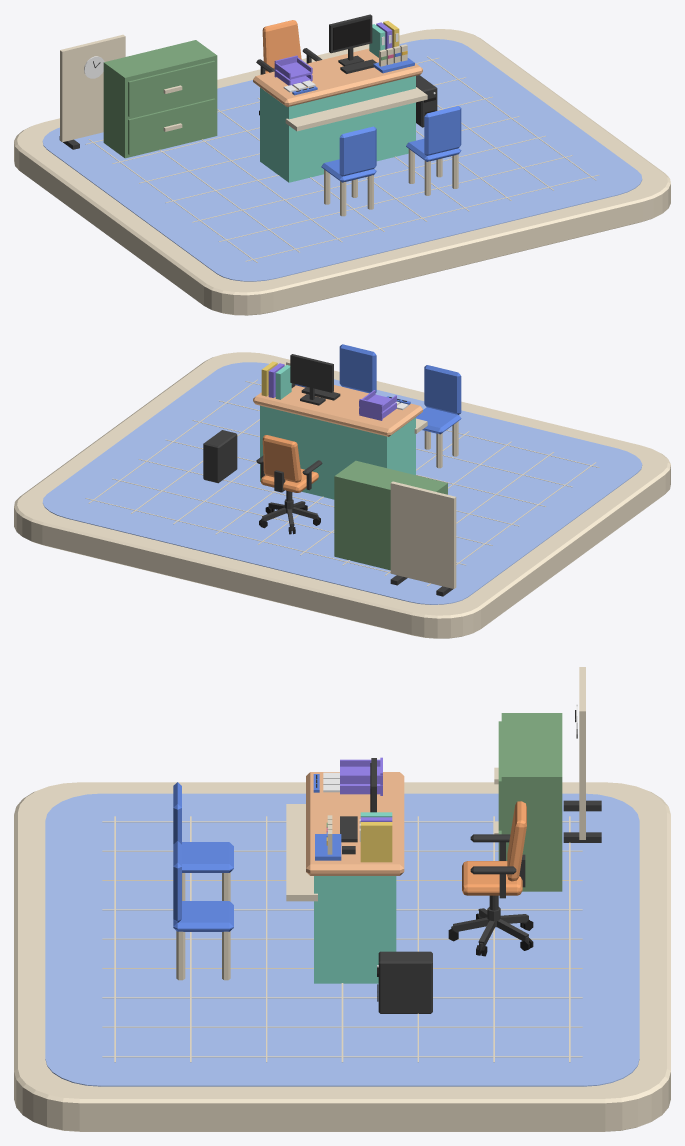
3 renders of one model, top to bottom at view 1: azimuth 30°, elevation 25°; view 2: azimuth 150°, elevation 25°; view 3: azimuth 270°, elevation 25°, orthographic. The views are drawn at different scales.
Parts seen in each view (by area): view 1: COM-02 Floor Surface, COM-01 Rounded Base Direct, Cabinet, Counter body, Panel, Countertop, Visitor shelf, COM-04_Chair_blender_direct, Backrest, Backrest.001, Frame, Tower (+4 smaller); view 2: COM-02 Floor Surface, COM-01 Rounded Base Direct, Counter body, Cabinet, Panel, Countertop, COM-04_Chair_blender_direct, Backrest, Backrest.001, Tower, Frame, Seat (+1 smaller); view 3: COM-02 Floor Surface, COM-01 Rounded Base Direct, Cabinet, Counter body, Countertop, COM-04_Chair_blender_direct, Tower, Visitor shelf, Seat.001, Seat, File.002, Panel (+5 smaller).
Boxes of the visible parts, <box> form: COM-02 Floor Surface: <box>42,39,642,281</box>; COM-01 Rounded Base Direct: <box>14,29,670,315</box>; Cabinet: <box>103,40,217,158</box>; Counter body: <box>260,76,415,182</box>; Panel: <box>60,34,125,142</box>; Countertop: <box>253,48,422,107</box>; Visitor shelf: <box>285,87,427,131</box>; COM-04_Chair_blender_direct: <box>256,20,322,115</box>; Backrest: <box>339,126,376,176</box>; Backrest.001: <box>424,106,461,155</box>; Frame: <box>329,14,372,66</box>; Tower: <box>416,75,437,127</box>; COM-02 Floor Surface: <box>42,362,642,604</box>; COM-01 Rounded Base Direct: <box>14,352,670,638</box>; Counter body: <box>260,405,415,499</box>; Cabinet: <box>334,460,447,570</box>; Panel: <box>390,481,456,588</box>; Countertop: <box>253,385,422,436</box>; COM-04_Chair_blender_direct: <box>256,435,322,534</box>; Backrest: <box>424,365,461,414</box>; Backrest.001: <box>339,344,376,393</box>; Tower: <box>203,430,237,483</box>; Frame: <box>290,354,333,405</box>; Seat: <box>416,407,461,434</box>; COM-02 Floor Surface: <box>45,793,639,1086</box>; COM-01 Rounded Base Direct: <box>14,782,670,1131</box>; Cabinet: <box>494,713,562,891</box>; Counter body: <box>314,876,396,983</box>; Countertop: <box>306,772,404,875</box>; COM-04_Chair_blender_direct: <box>448,801,533,956</box>; Tower: <box>378,951,432,1013</box>; Visitor shelf: <box>286,804,317,901</box>; Seat.001: <box>173,901,233,931</box>; Seat: <box>182,842,233,872</box>; File.002: <box>360,822,392,862</box>; Panel: <box>579,667,585,839</box>.
Bounding box in the file's own units: 6 × 1.87 × 5.2.
Materials: 1 (1 with a texture image).
